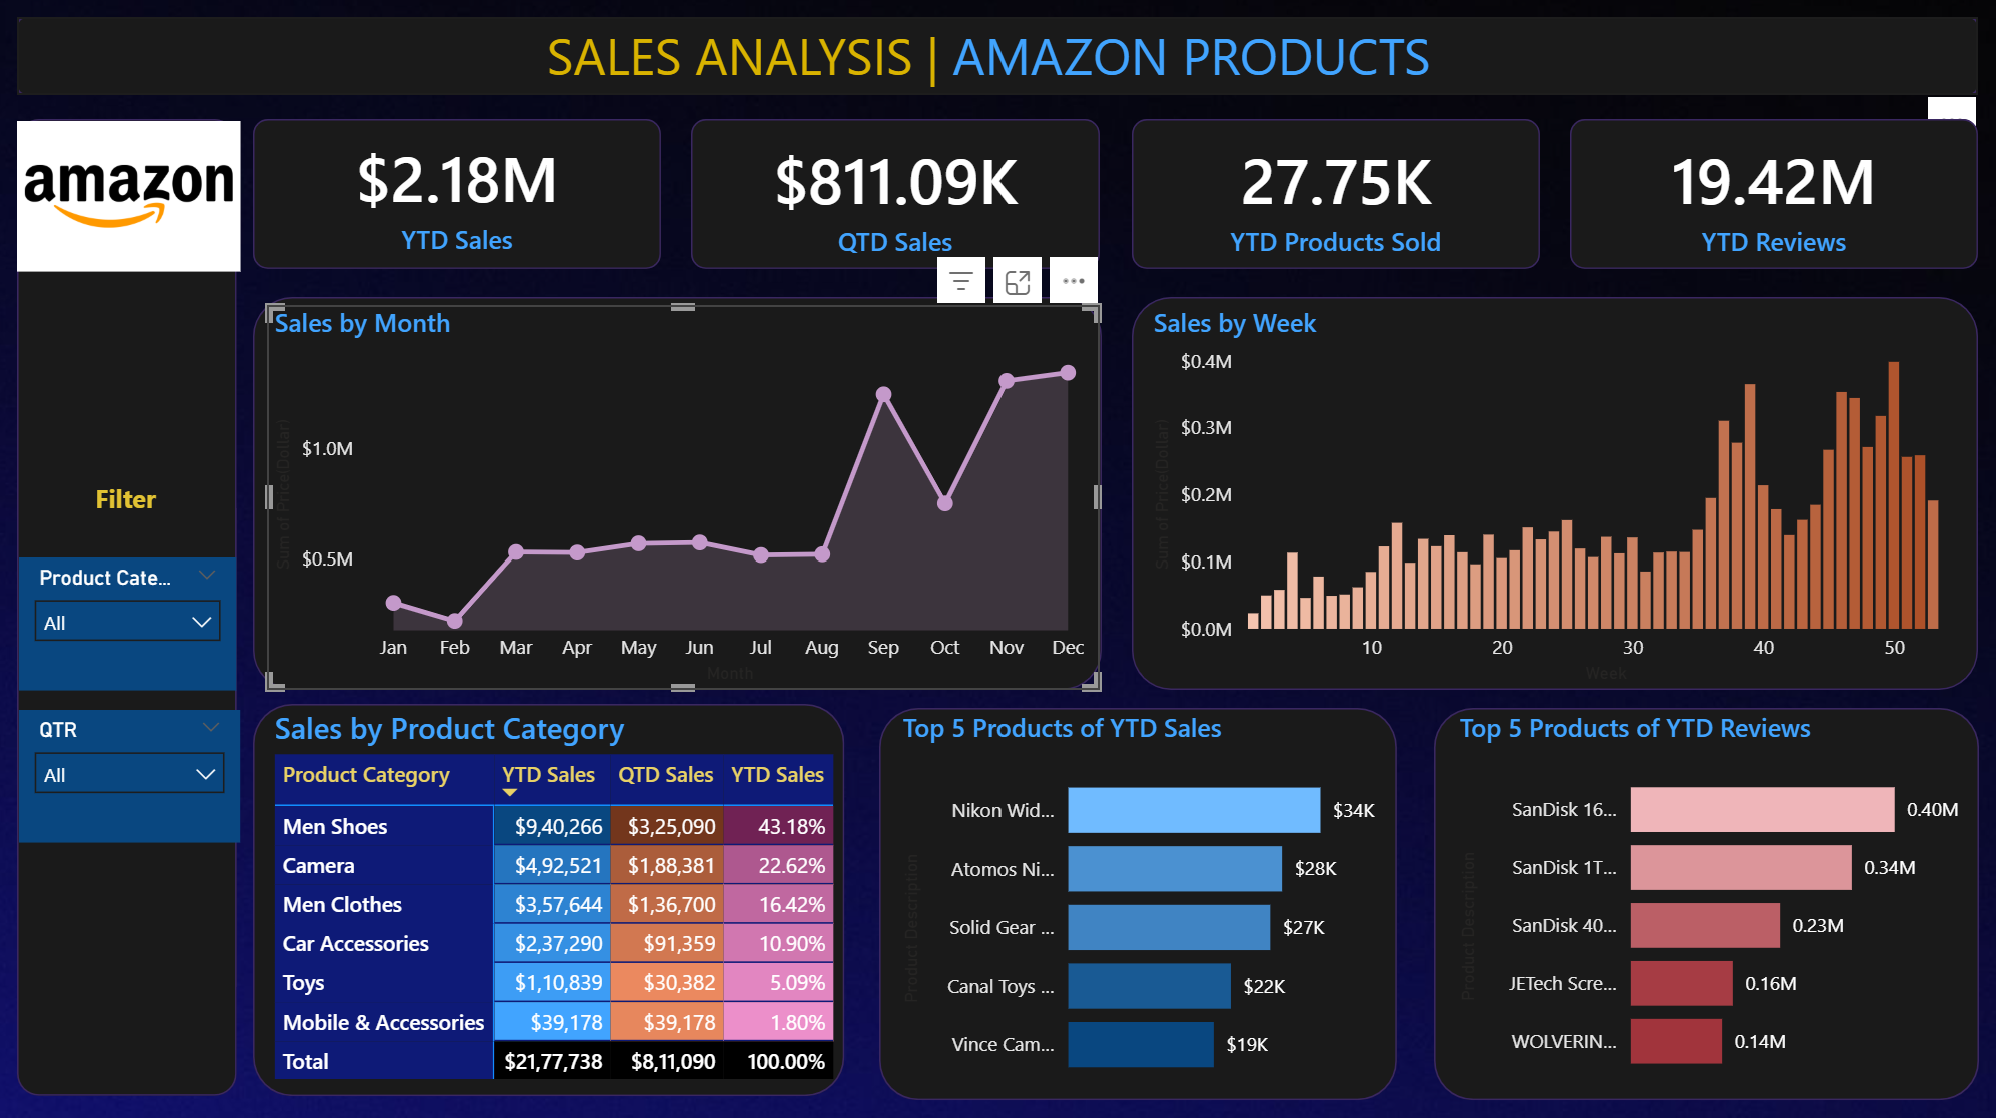

The dashboard page shown, as its layout file describes it:
{"tool":"powerbi","page":{"name":"Page 1","canvas":[1280,720],"ordinal":0},"visuals":[{"type":"shape","box":[165.7,77.8,260.1,95.6],"z":0,"group":"g1"},{"type":"shape","box":[15.3,12.7,1249.4,49.7],"z":0},{"type":"card","fields":{"Values":["Amazon_Data.YTD Sales"]},"box":[165.7,77.8,260.1,95.6],"z":1000,"group":"g1"},{"type":"textbox","box":[347.4,10.3,582.1,52.6],"z":1000},{"type":"shape","box":[445.3,77.8,260.1,95.6],"z":2000,"group":"g1"},{"type":"shape","box":[15.3,77.8,140,622],"z":2000},{"type":"shape","box":[725,77.8,260.1,95.6],"z":3000,"group":"g1"},{"type":"group","id":"g1","title":"Group 1","box":[165.7,77.8,1099,96.9],"z":3000},{"type":"shape","box":[1004.6,77.8,260.1,95.6],"z":4000,"group":"g1"},{"type":"shape","box":[165.7,191.2,540.6,249.9],"z":4000},{"type":"card","fields":{"Values":["Amazon_Data.QTD Sales"]},"box":[444.9,79.1,260.1,95.6],"z":5000,"group":"g1"},{"type":"areaChart","title":"Sales  by Month","fields":{"Category":["Date table.Month"],"Y":["Sum(Amazon_Data.Price(Dollar))"]},"box":[174.4,196.2,530.8,244.9],"z":5000},{"type":"card","fields":{"Values":["Amazon_Data.YTD Reviews"]},"box":[1004.6,79.1,260.1,95.6],"z":6000,"group":"g1"},{"type":"shape","box":[725.4,191.2,539.3,249.9],"z":6000},{"type":"card","fields":{"Values":["Amazon_Data.YTD Products Sold"]},"box":[725.4,79.1,260.1,95.6],"z":7000,"group":"g1"},{"type":"columnChart","title":"Sales by Week","fields":{"Category":["Date table.Week"],"Y":["Sum(Amazon_Data.Price(Dollar))"]},"box":[734.6,196.2,530.8,244.9],"z":7000},{"type":"shape","box":[165.4,450,376.9,250],"z":8000},{"type":"pivotTable","title":"Sales by Product Category","fields":{"Rows":["Amazon_Data.Product Category"],"Values":["Amazon_Data.YTD Sales1","Amazon_Data.QTD Sales","Amazon_Data.YTD Sales"]},"box":[174.4,452.6,367.9,250],"z":9000},{"type":"shape","box":[565.4,452.6,329.5,250],"z":10000},{"type":"shape","box":[917.9,452.6,347.4,250],"z":11000},{"type":"clusteredBarChart","title":"Top 5 Products of YTD Sales ","fields":{"Category":["Amazon_Data.Product Description"],"Y":["Amazon_Data.YTD Sales"]},"box":[574.4,453.8,321.8,248.7],"z":12000},{"type":"clusteredBarChart","title":"Top 5 Products of YTD Reviews","fields":{"Category":["Amazon_Data.Product Description"],"Y":["Amazon_Data.YTD Reviews"]},"box":[929.5,453.8,334.6,246.2],"z":13000},{"type":"slicer","fields":{"Values":["Amazon_Data.Product Category"]},"box":[16.7,356.4,138.5,84.6],"z":14000},{"type":"slicer","fields":{"Values":["Date table.QTR"]},"box":[16.7,453.8,141,84.6],"z":15000},{"type":"textbox","box":[14.1,303.8,141,52.6],"z":16000},{"type":"image","box":[15.4,79.5,142.3,96.2],"z":17000}]}

Visuals, with their boxes in screenshot pixels (x1, y1, x2, y2), scaled from the page's 1280x720 canvas onto the 1996x1118 screenshot:
shape: {"left": 258, "top": 121, "right": 664, "bottom": 269}
shape: {"left": 24, "top": 20, "right": 1972, "bottom": 97}
card - Amazon_Data.YTD Sales: {"left": 258, "top": 121, "right": 664, "bottom": 269}
textbox: {"left": 542, "top": 16, "right": 1449, "bottom": 98}
shape: {"left": 694, "top": 121, "right": 1100, "bottom": 269}
shape: {"left": 24, "top": 121, "right": 242, "bottom": 1087}
shape: {"left": 1131, "top": 121, "right": 1536, "bottom": 269}
"Group 1" group: {"left": 258, "top": 121, "right": 1972, "bottom": 271}
shape: {"left": 1567, "top": 121, "right": 1972, "bottom": 269}
shape: {"left": 258, "top": 297, "right": 1101, "bottom": 685}
card - Amazon_Data.QTD Sales: {"left": 694, "top": 123, "right": 1099, "bottom": 271}
"Sales  by Month" areaChart: {"left": 272, "top": 305, "right": 1100, "bottom": 685}
card - Amazon_Data.YTD Reviews: {"left": 1567, "top": 123, "right": 1972, "bottom": 271}
shape: {"left": 1131, "top": 297, "right": 1972, "bottom": 685}
card - Amazon_Data.YTD Products Sold: {"left": 1131, "top": 123, "right": 1537, "bottom": 271}
"Sales by Week" columnChart: {"left": 1146, "top": 305, "right": 1973, "bottom": 685}
shape: {"left": 258, "top": 699, "right": 846, "bottom": 1087}
"Sales by Product Category" pivotTable: {"left": 272, "top": 703, "right": 846, "bottom": 1091}
shape: {"left": 882, "top": 703, "right": 1395, "bottom": 1091}
shape: {"left": 1431, "top": 703, "right": 1973, "bottom": 1091}
"Top 5 Products of YTD Sales " clusteredBarChart: {"left": 896, "top": 705, "right": 1398, "bottom": 1091}
"Top 5 Products of YTD Reviews" clusteredBarChart: {"left": 1449, "top": 705, "right": 1971, "bottom": 1087}
slicer - Amazon_Data.Product Category: {"left": 26, "top": 553, "right": 242, "bottom": 685}
slicer - Date table.QTR: {"left": 26, "top": 705, "right": 246, "bottom": 836}
textbox: {"left": 22, "top": 472, "right": 242, "bottom": 553}
image: {"left": 24, "top": 123, "right": 246, "bottom": 273}
